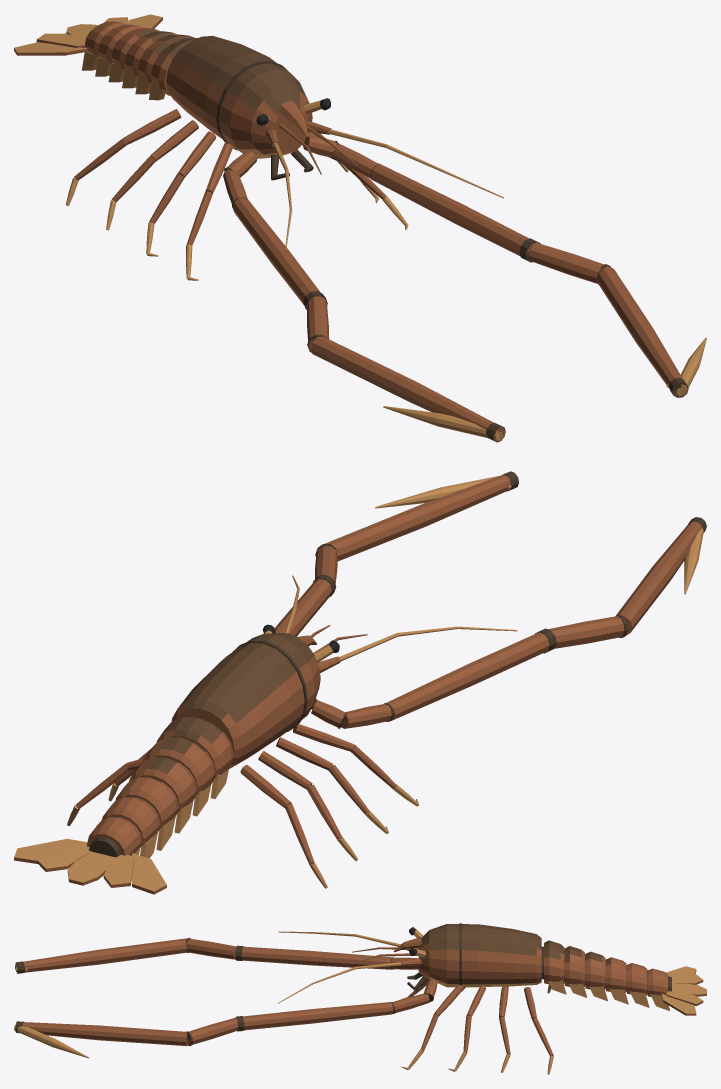
3 views of the same model, one above another, from view 1: azimuth 30°, elevation 25°; view 2: azimuth 150°, elevation 25°; view 3: azimuth 270°, elevation 25° (orthographic). The views are drawn at different scales.
Parts seen in each view (by area): view 1: Mecochirus_static_surface; view 2: Mecochirus_static_surface; view 3: Mecochirus_static_surface.
Part boxes in pixels (x1=…): Mecochirus_static_surface: x1=14, y1=14, x2=706, y2=442; Mecochirus_static_surface: x1=14, y1=471, x2=706, y2=894; Mecochirus_static_surface: x1=14, y1=923, x2=706, y2=1074.
Size of the model in its own units: 0.0711 by 0.0342 by 0.1971.
